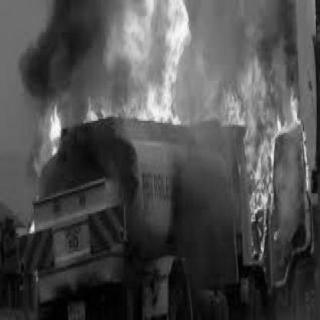Fire: (205, 65, 313, 258), (78, 0, 189, 124), (46, 100, 62, 152), (26, 218, 36, 232)
Smoke: (12, 2, 102, 90)
